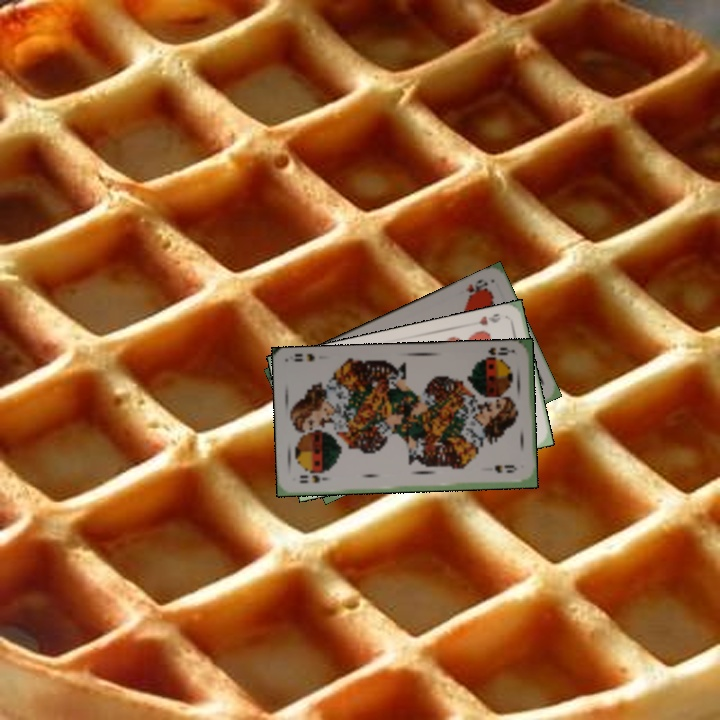H9: (474, 309, 503, 328)
HO: (462, 275, 491, 301)
SO: (476, 343, 516, 364), (295, 471, 331, 486)
